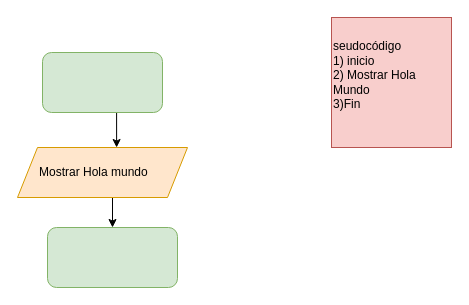
Image size: 469x305. Some labels were removed from this diagram. The shapes that lost their labels are listed below. From the top down, each one's centre as x and y in pixels, then its label:
At point 102,82: "inicio".
At point 112,257: "Fin".
